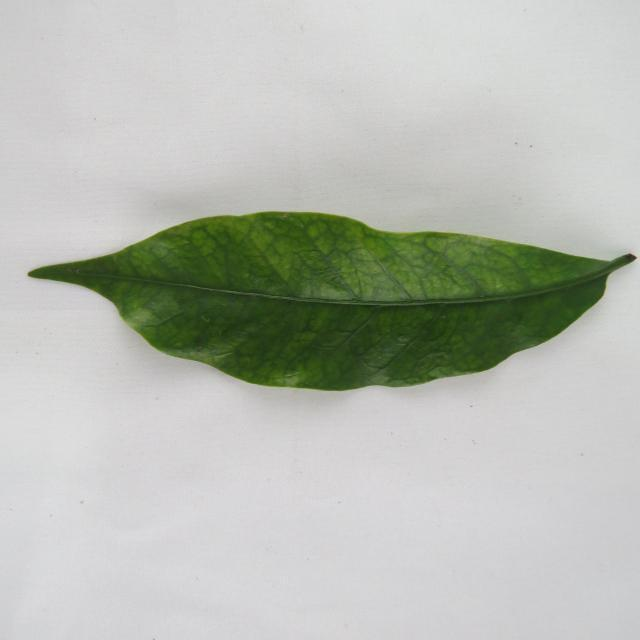DeficienciaNutricional-Manganeso: (30, 211, 635, 390)
